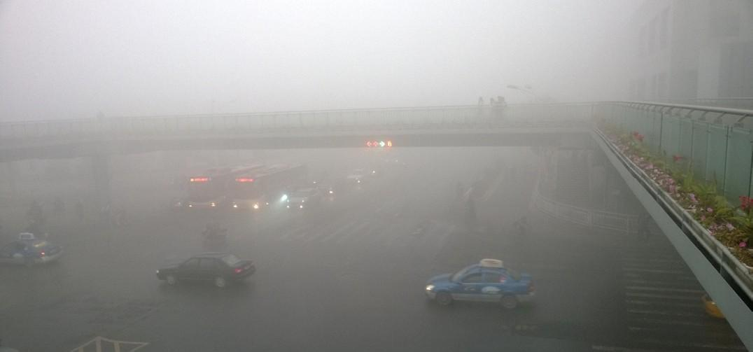bus: (227, 161, 309, 213), (186, 163, 265, 210)
car: (424, 258, 537, 310), (155, 251, 256, 290), (1, 230, 64, 268), (285, 185, 324, 211)
